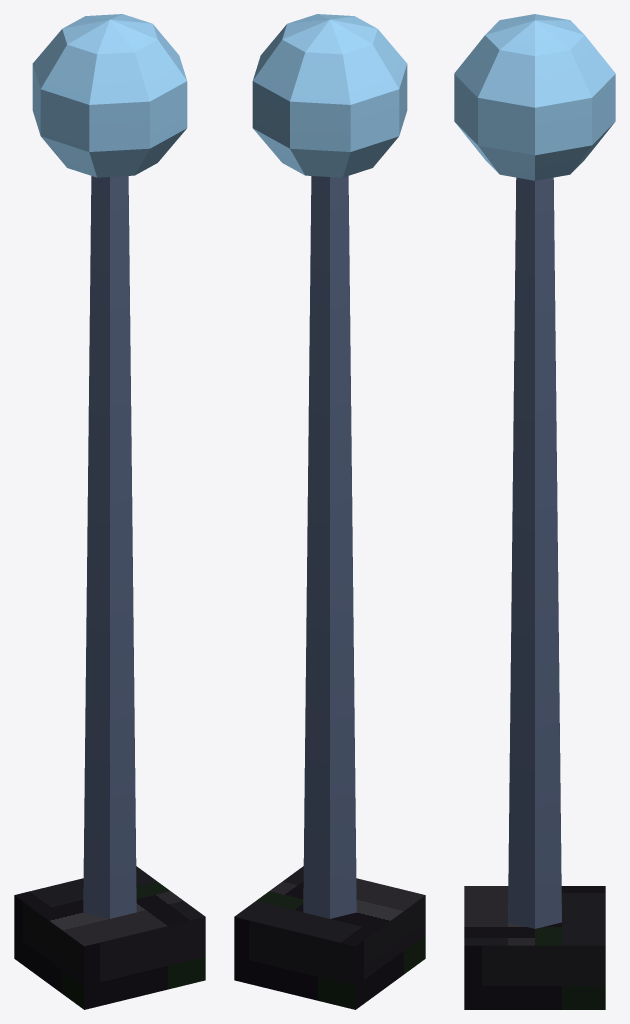
The model's file is cold_fire_lamp.glb.
3 views of the same model, side by side, from view 1: azimuth 30°, elevation 25°; view 2: azimuth 150°, elevation 25°; view 3: azimuth 270°, elevation 25° (orthographic).
Visible parts, largest first — view 1: cold_fire_lamp; view 2: cold_fire_lamp; view 3: cold_fire_lamp.
Part boxes in pixels (<box>): cold_fire_lamp: <box>14,14,205,1009</box>; cold_fire_lamp: <box>234,14,425,1009</box>; cold_fire_lamp: <box>454,14,615,1009</box>.
Bounding box in the file's own units: 0.4565 × 2.99 × 0.4565.
Materials: 3 (1 with a texture image).
